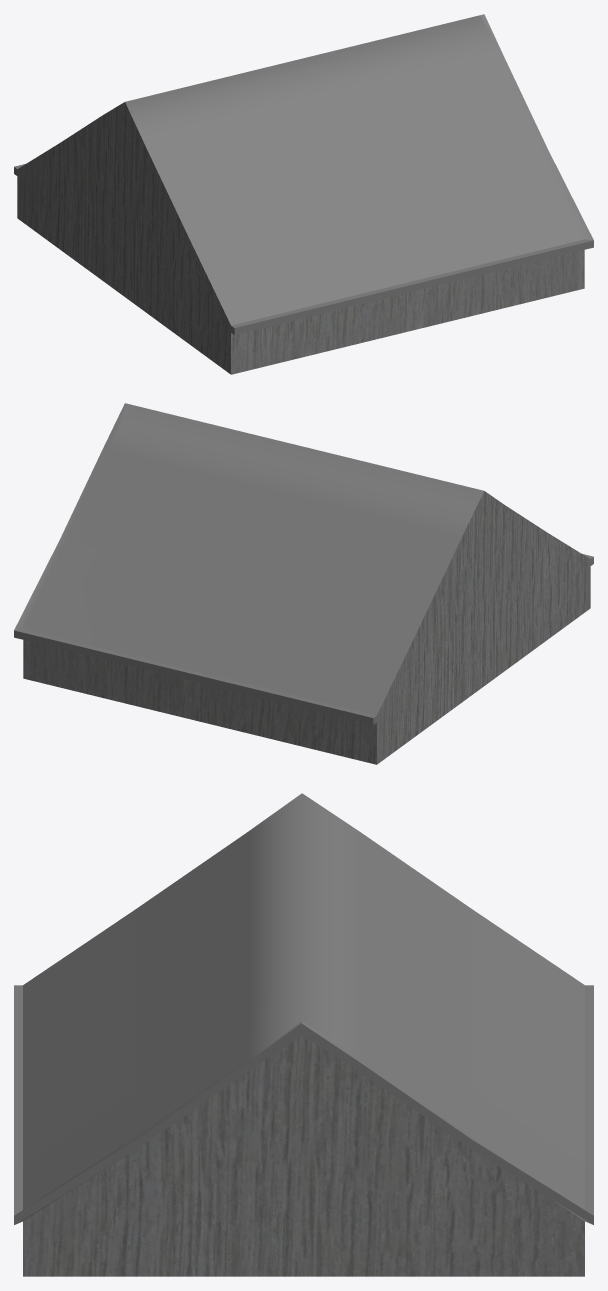
File: CatWingRoof.obj
3 renders of one model, top to bottom at view 1: azimuth 30°, elevation 25°; view 2: azimuth 150°, elevation 25°; view 3: azimuth 270°, elevation 25°, orthographic. The views are drawn at different scales.
Parts seen in each view (by area): view 1: polySurface37 polySurface36 polySurface33 polySurface32 polySurf; view 2: polySurface37 polySurface36 polySurface33 polySurface32 polySurf; view 3: polySurface37 polySurface36 polySurface33 polySurface32 polySurf.
Boxes of the visible parts, left/top/right/bottom form: polySurface37 polySurface36 polySurface33 polySurface32 polySurf: left=14, top=14, right=593, bottom=374; polySurface37 polySurface36 polySurface33 polySurface32 polySurf: left=14, top=403, right=593, bottom=764; polySurface37 polySurface36 polySurface33 polySurface32 polySurf: left=14, top=793, right=593, bottom=1276.
Bounding box in the file's own units: 60.69 × 31.51 × 64.5.
2 materials, 1 textured.
